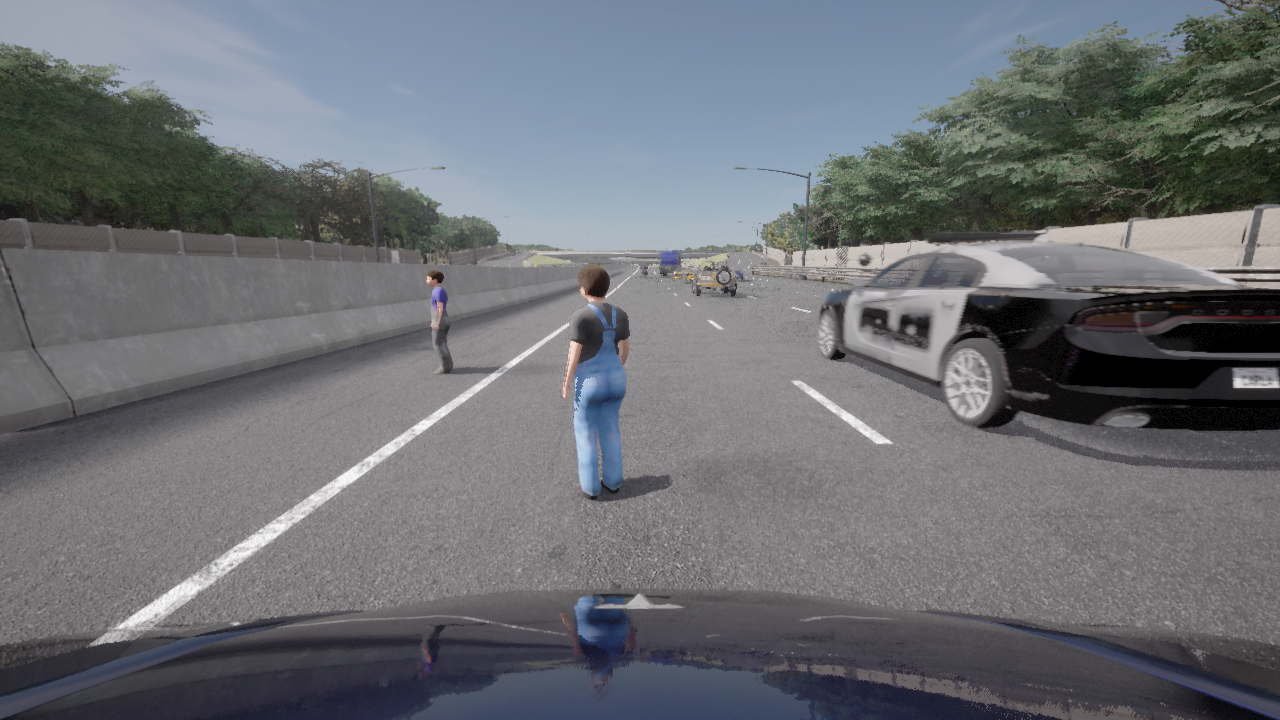cyclist: (0, 588, 1279, 719), (818, 230, 1279, 430), (691, 258, 737, 296), (658, 249, 682, 276), (672, 264, 694, 282), (731, 265, 743, 280), (690, 265, 699, 271), (643, 274, 644, 277)
pedestrian: (562, 264, 628, 499), (426, 269, 453, 374), (442, 261, 444, 264)
